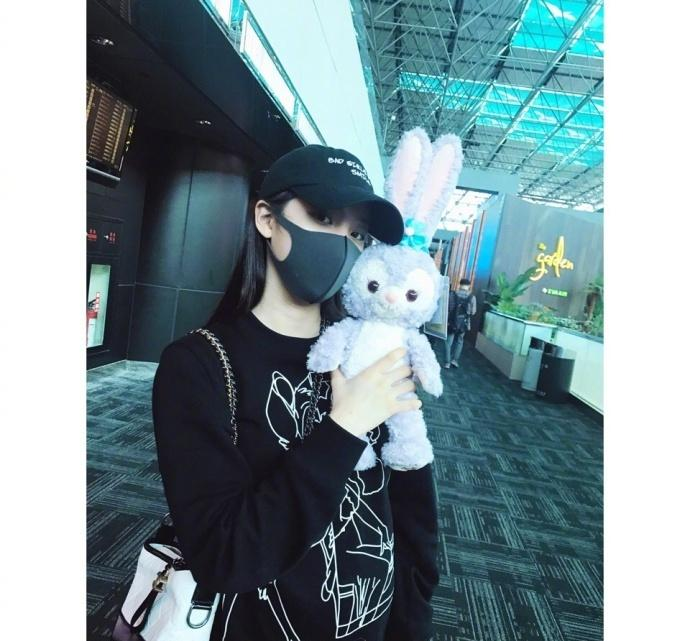face_mask: (274, 184, 367, 301)
